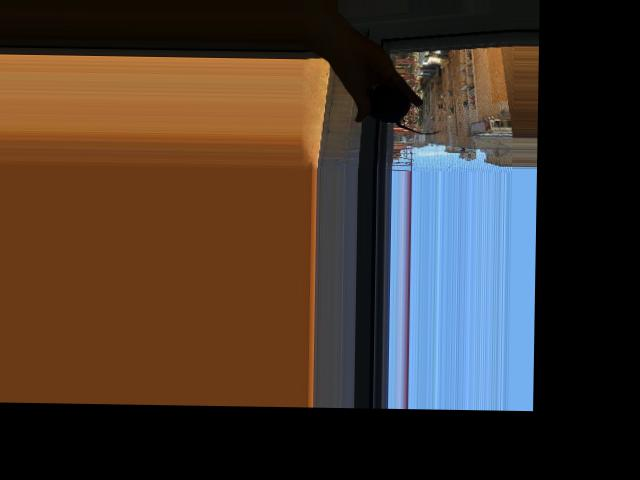beet: (369, 84, 442, 135)
